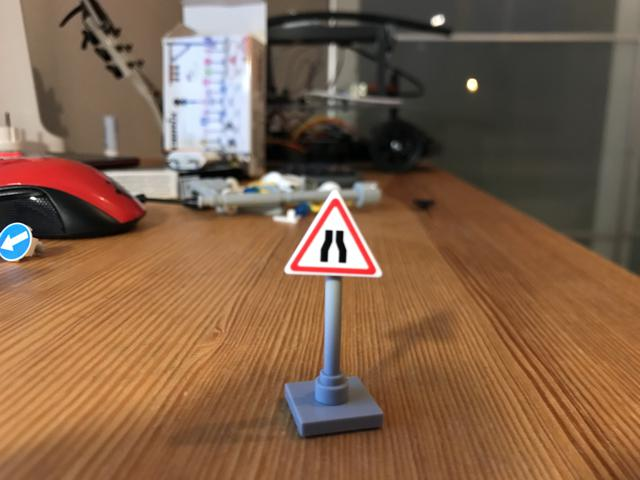verengte fahrbahn: (284, 190, 384, 279)
